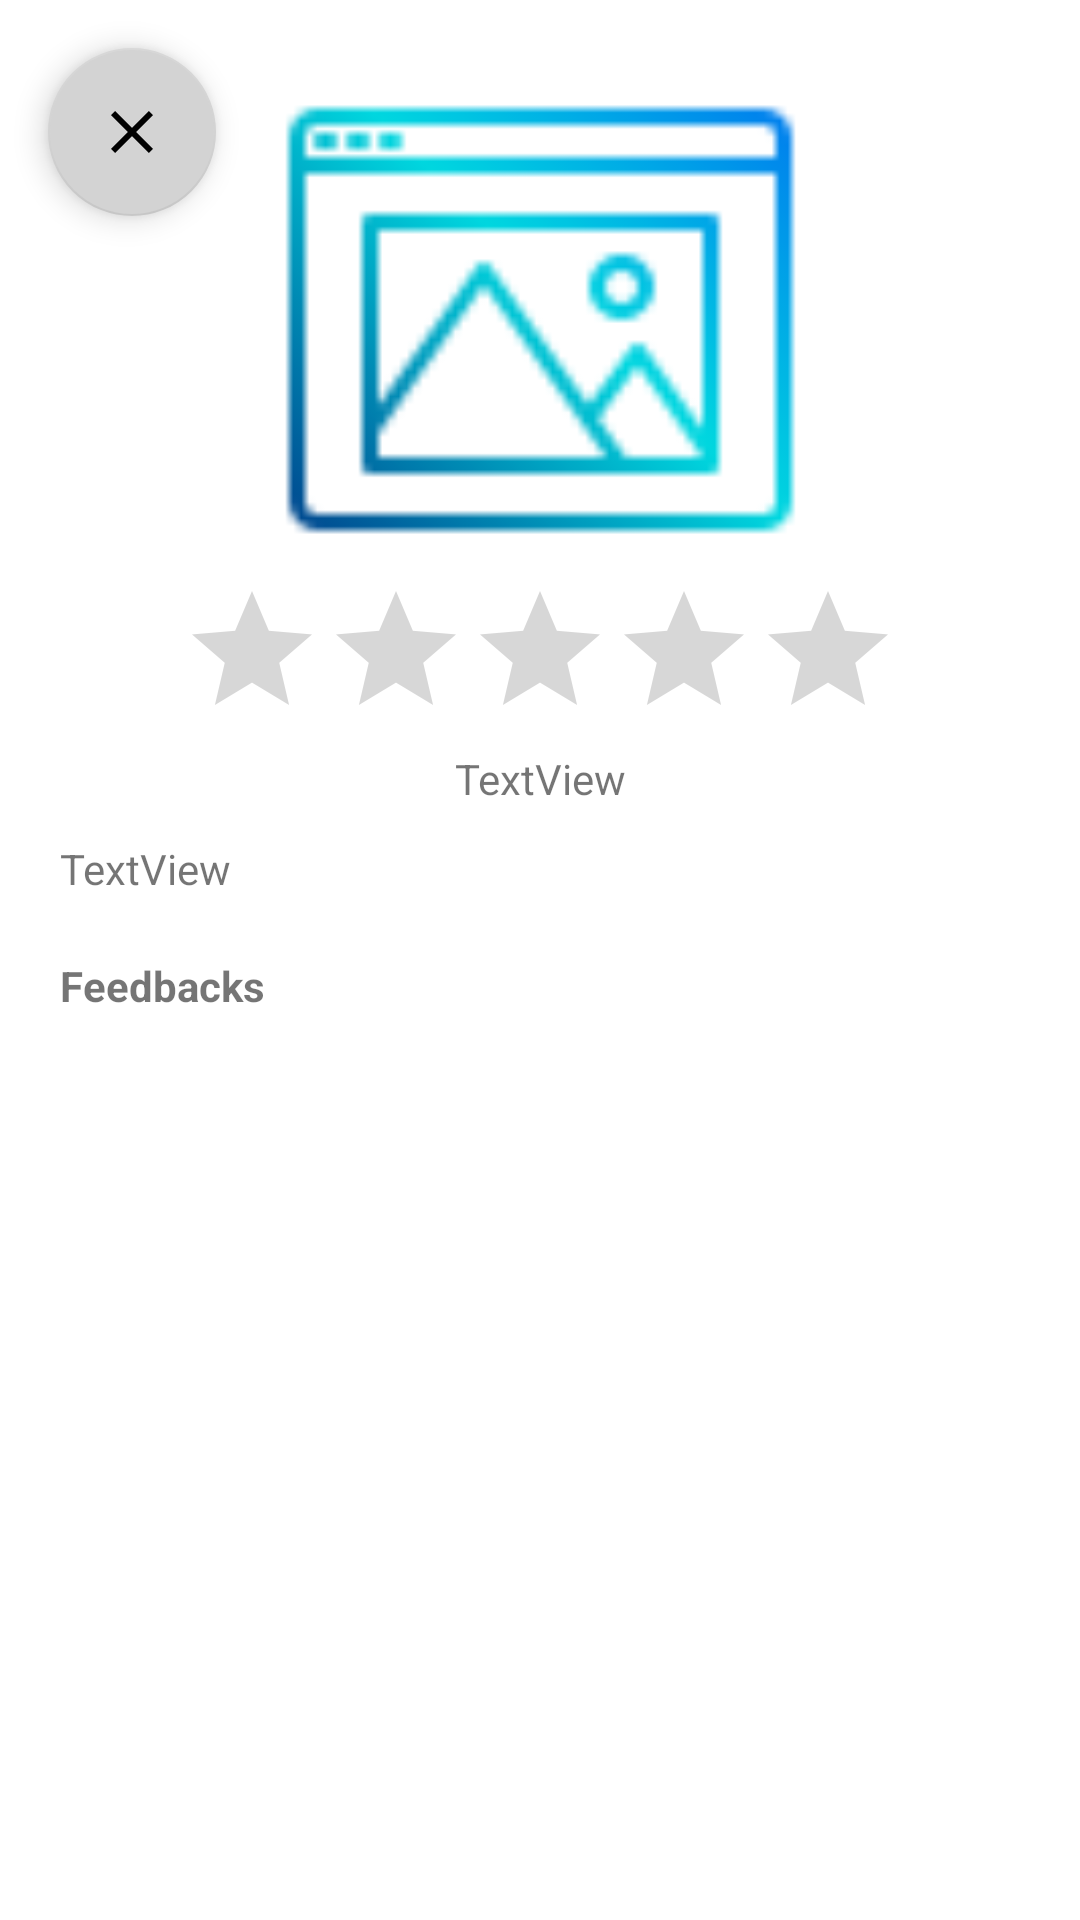

Icon click points for this 1080w x 1920h phone screenshot, format [x,y]:
close: [132,132]
